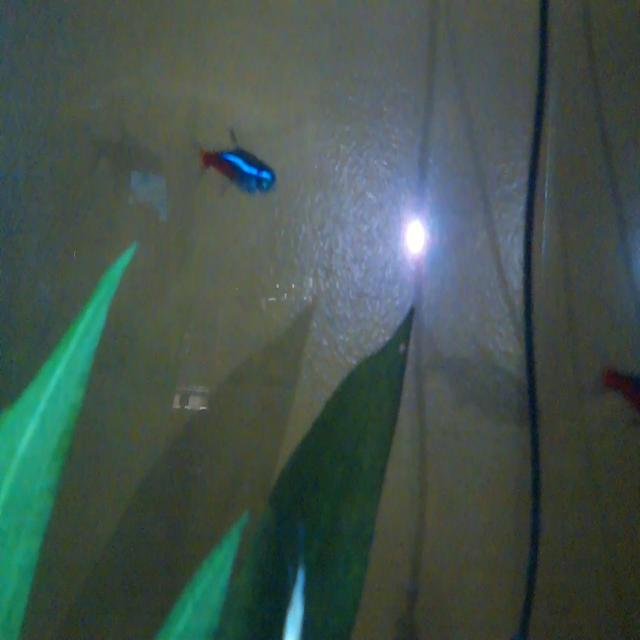fish: (187, 126, 286, 209)
